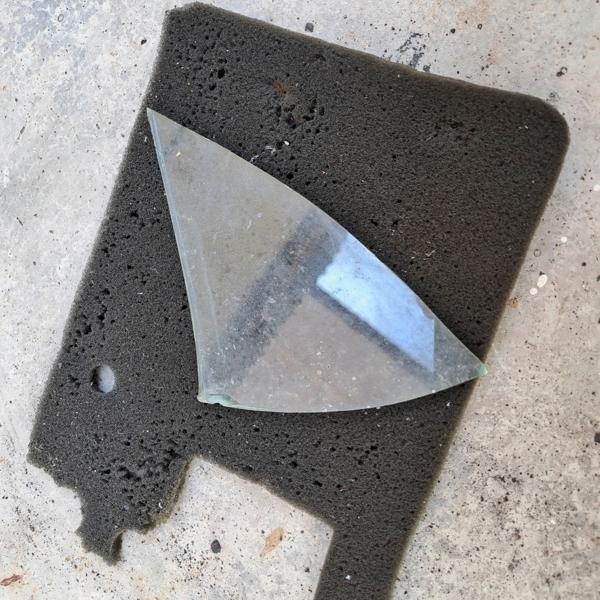Anorganik: (133, 104, 511, 437)
